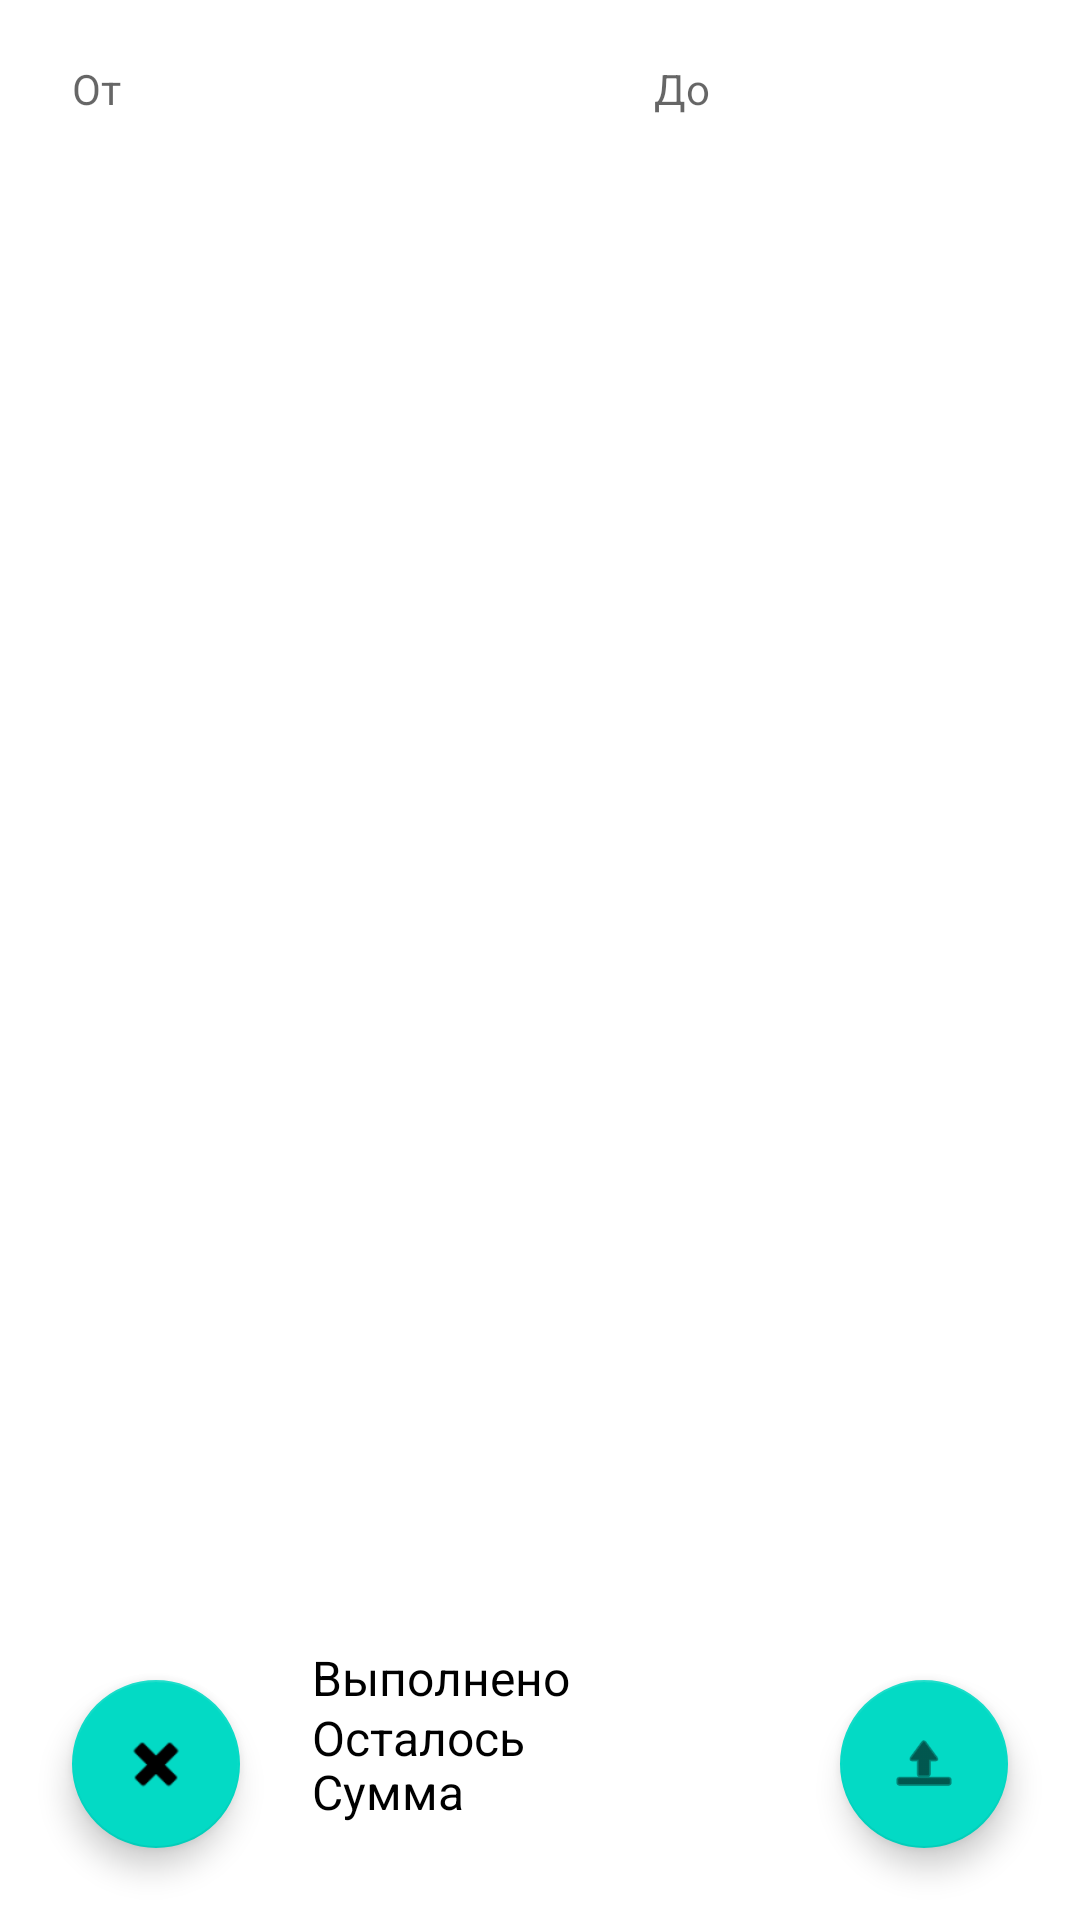

Point at icon controls on the screen. Image size 1080 x 1920, points as (x,y).
delete: (156,1764)
upload: (924,1764)
